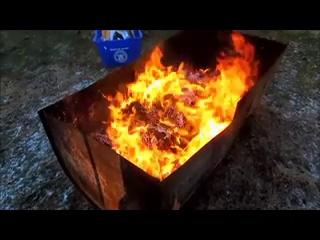Fire: (136, 47, 253, 150)
